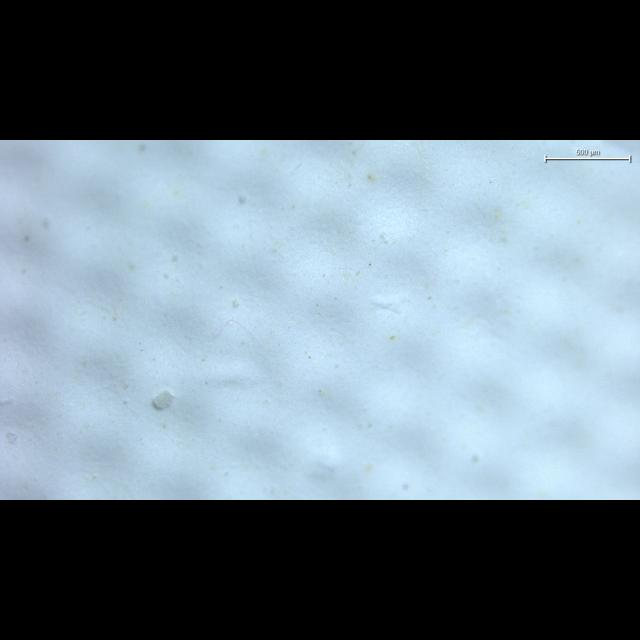Fibre: (213, 319, 262, 347)
Fragment: (153, 391, 174, 410)
